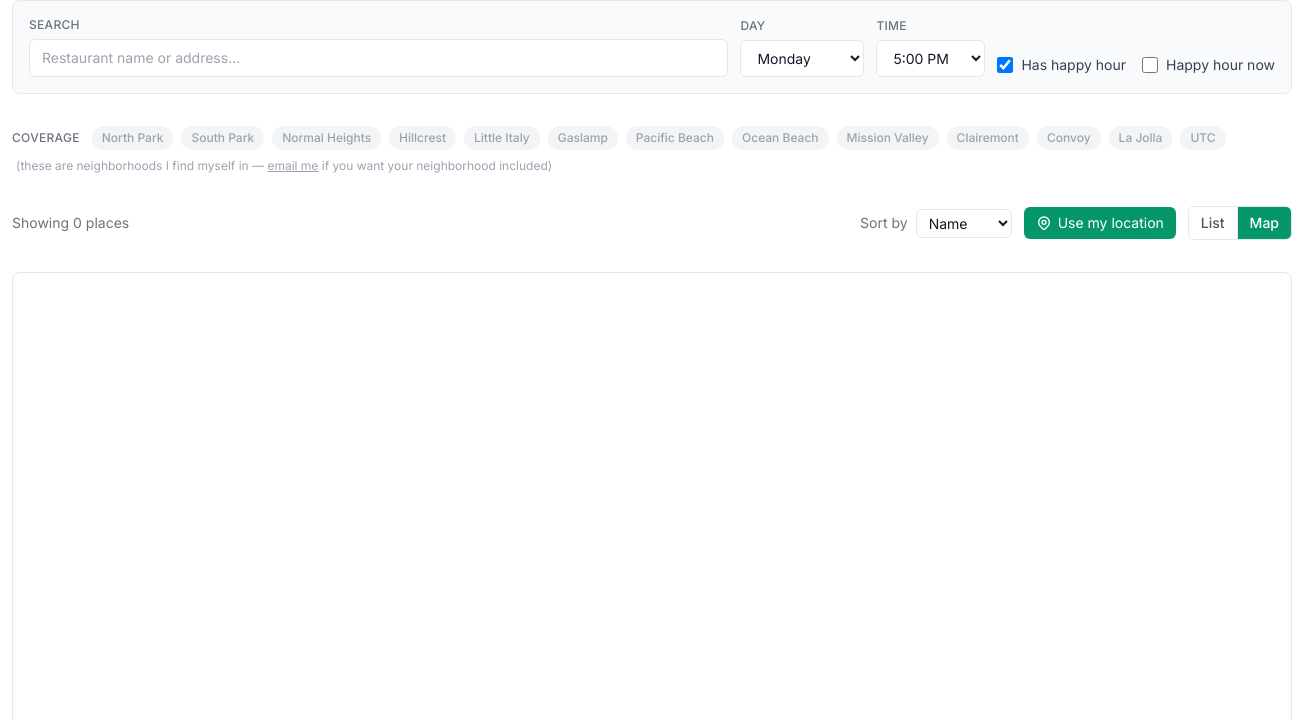
Test: RestaurantMap - User location › shows user location marker when location is active
This screenshot has width=1304, height=720.
Click the button "Use my location" at (1100,223), box top-left (1024, 207), bottom-right (1176, 239)
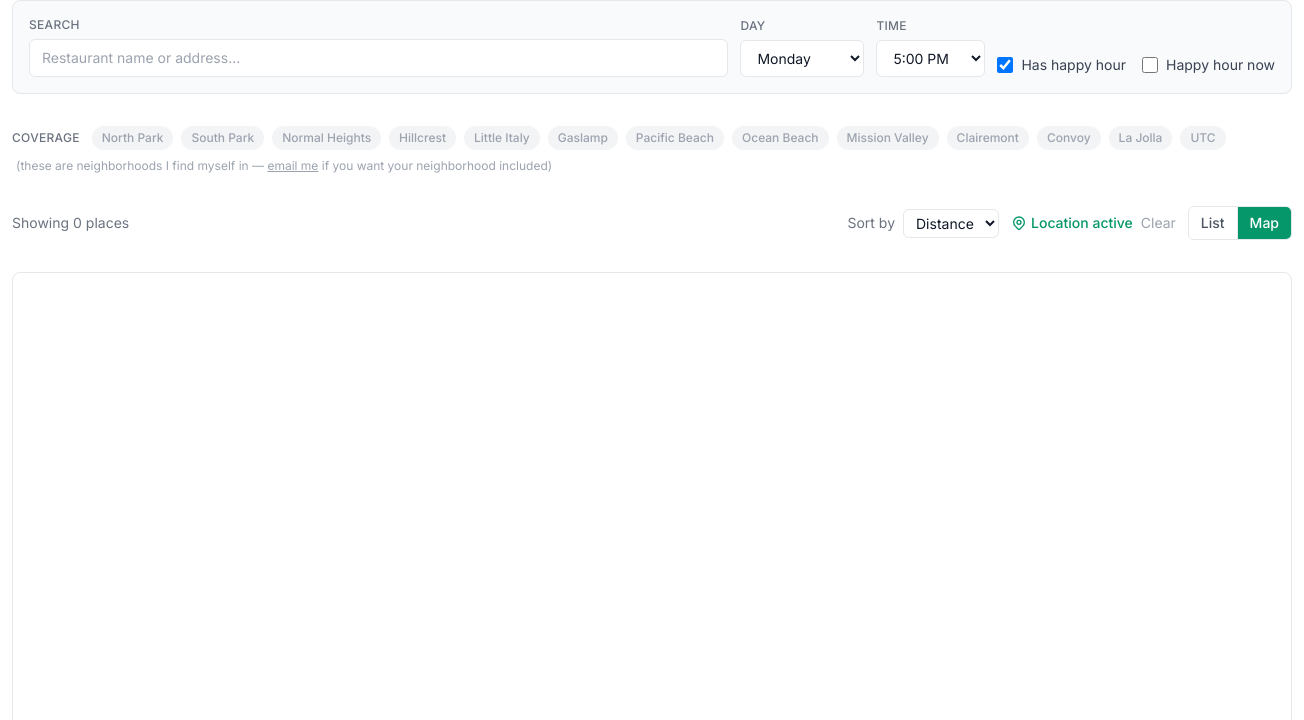
Result: the text "Location active" is shown at top-left (1011, 213), bottom-right (1133, 233)
